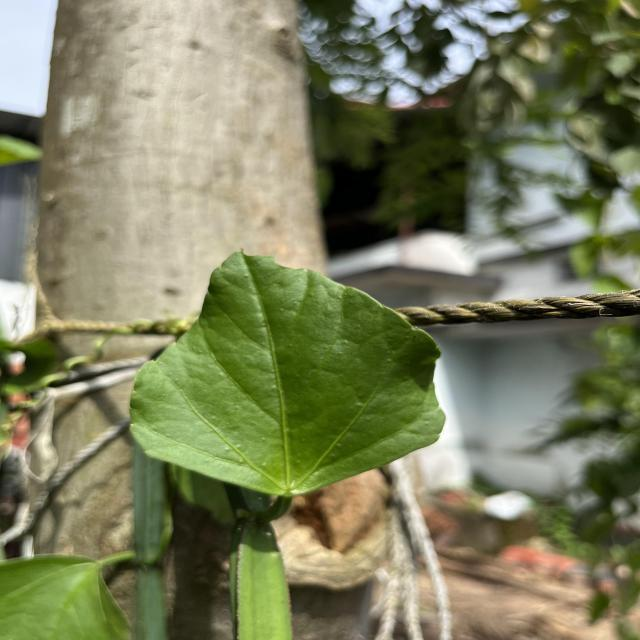Cissus quadrangularis: (122, 245, 450, 500)
